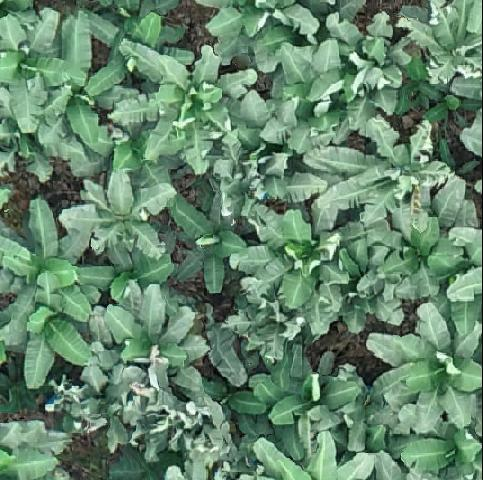Banana-plant: (120, 41, 250, 167), (313, 124, 463, 227), (363, 305, 483, 430), (2, 198, 109, 323), (234, 217, 341, 327), (95, 290, 208, 394), (354, 216, 473, 311), (75, 3, 195, 89), (236, 357, 357, 442), (41, 22, 111, 159), (258, 46, 351, 149), (0, 8, 69, 139), (0, 287, 95, 381), (210, 143, 321, 222), (324, 15, 413, 113), (66, 176, 170, 258), (402, 0, 483, 90), (209, 0, 308, 65), (168, 199, 237, 285)
